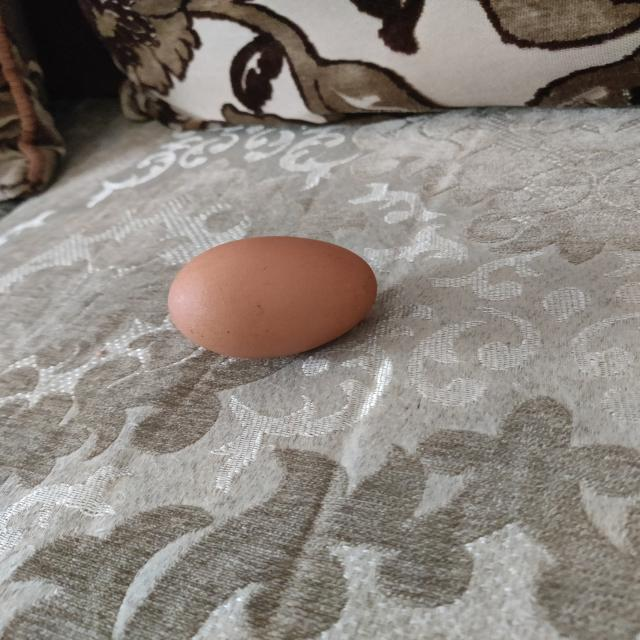Egg: (160, 234, 381, 362)
